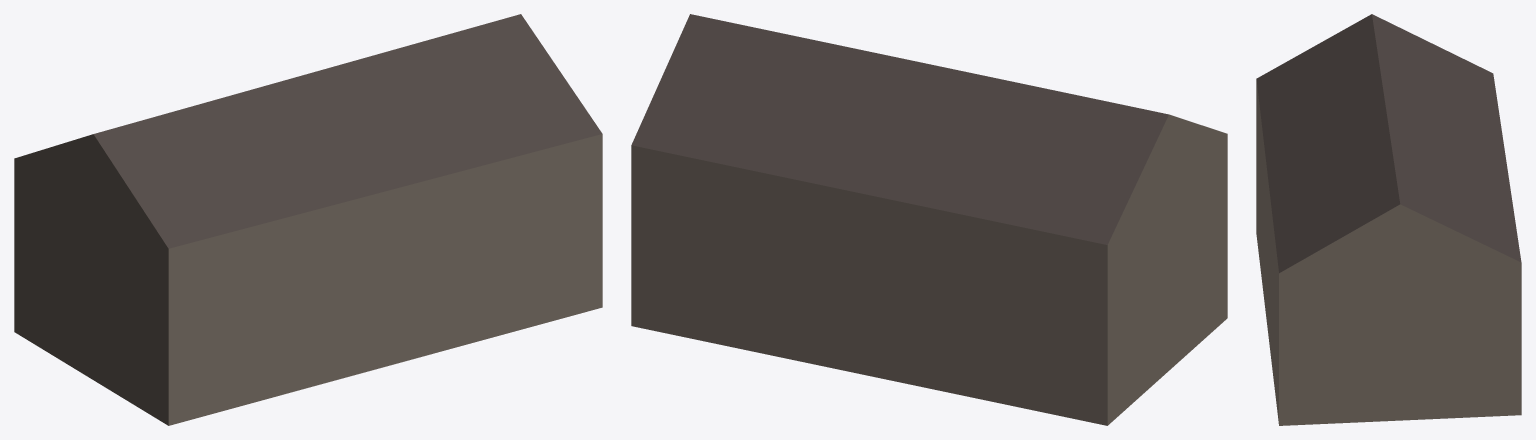
3 renders of one model, left to right at view 1: azimuth 30°, elevation 25°; view 2: azimuth 150°, elevation 25°; view 3: azimuth 270°, elevation 25°, orthographic. The views are drawn at different scales.
Parts seen in each view (by area): view 1: HP-w1200711937; view 2: HP-w1200711937; view 3: HP-w1200711937.
Boxes of the visible parts, left/top/right/bottom form: HP-w1200711937: left=14, top=14, right=602, bottom=425; HP-w1200711937: left=631, top=14, right=1227, bottom=425; HP-w1200711937: left=1256, top=14, right=1521, bottom=425.
Size of the model in its own units: 25.3 by 12.76 by 14.17.
